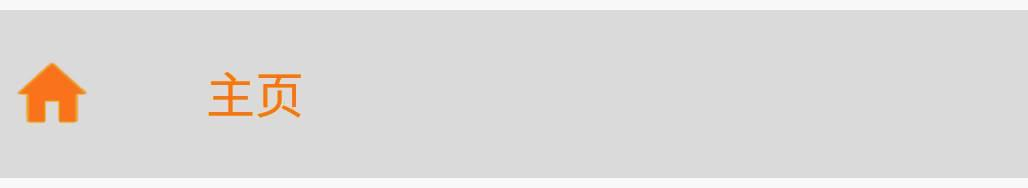CheckedTextView: (1, 1, 1027, 187)
